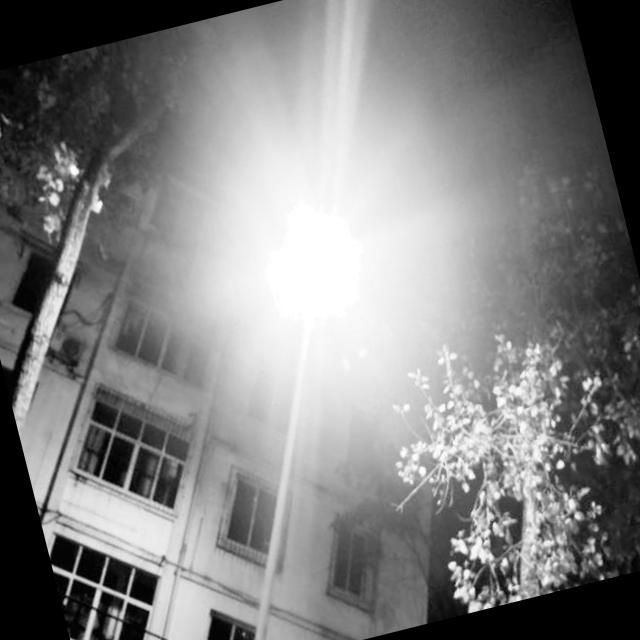Light: (251, 203, 372, 332)
Tree: (0, 71, 225, 417), (414, 315, 640, 611)
